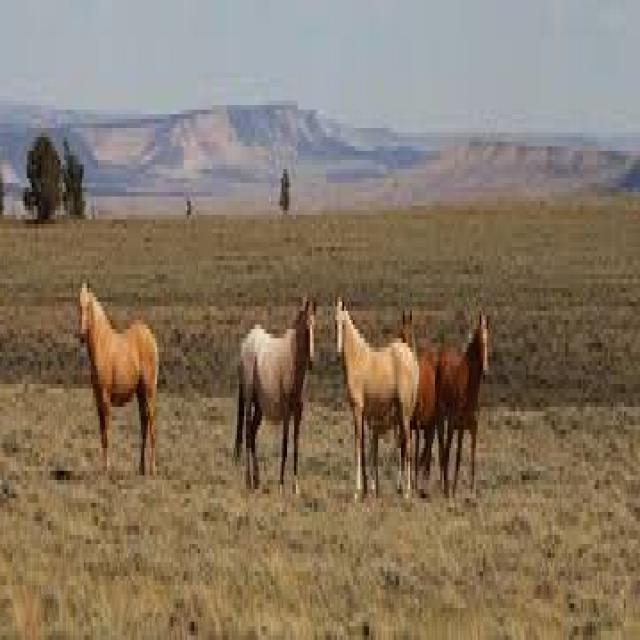horse: (330, 286, 427, 510), (226, 280, 320, 508), (77, 268, 163, 477), (432, 301, 494, 505)
